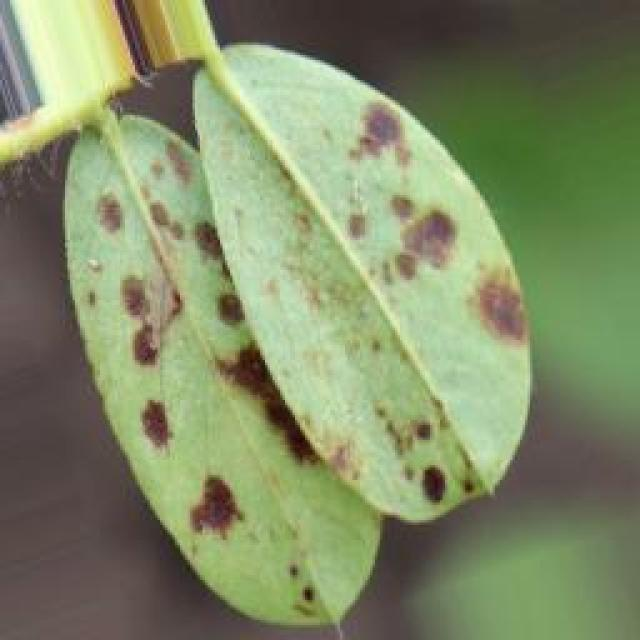Whitefly: (39, 61, 547, 613)
